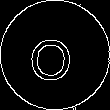O_N: (32, 28, 78, 82)
